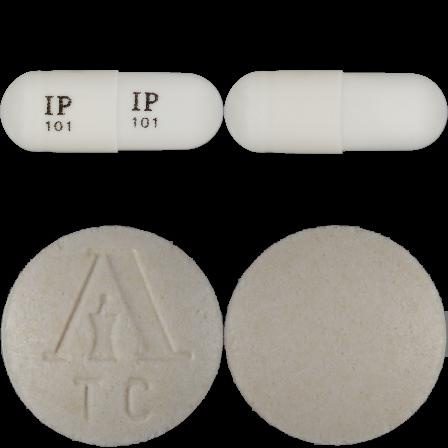42254-103: (0, 0, 224, 224)
